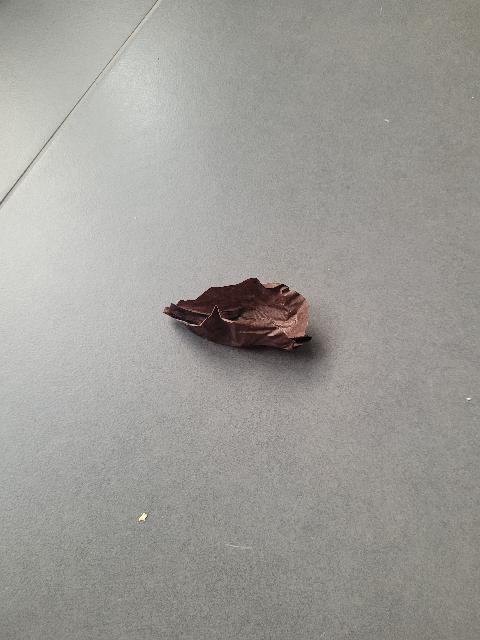Kagit: (162, 258, 326, 371)
